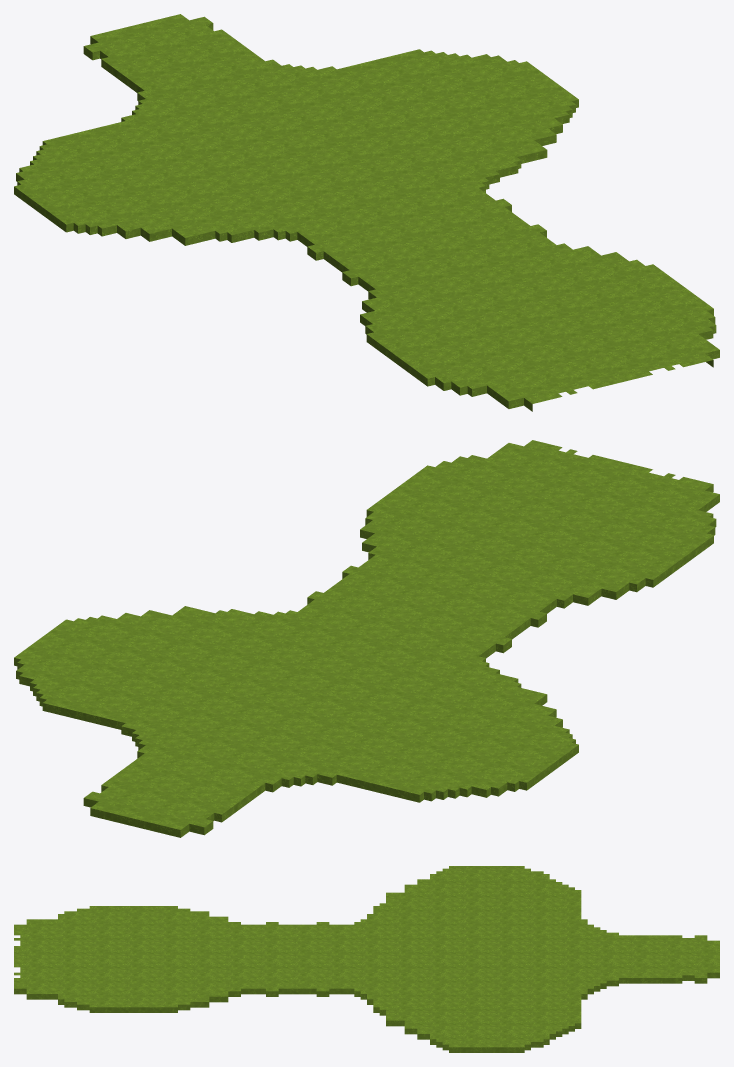
The model's file is Mground_grass.FBX.
The picture shows the model from 3 angles, top to bottom: view 1: azimuth 30°, elevation 25°; view 2: azimuth 150°, elevation 25°; view 3: azimuth 270°, elevation 25°; orthographic projection. The views are drawn at different scales.
Parts seen in each view (by area): view 1: Mground001; view 2: Mground001; view 3: Mground001.
Boxes of the visible parts, <box> form: Mground001: <box>14,14,719,411</box>; Mground001: <box>14,440,719,837</box>; Mground001: <box>14,866,719,1052</box>.
Bounding box in the file's own units: 68 × 1 × 112.
